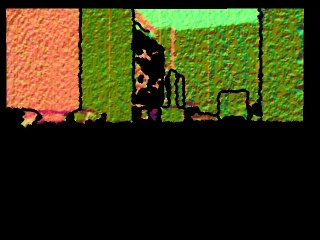station: (161, 70, 186, 123)
